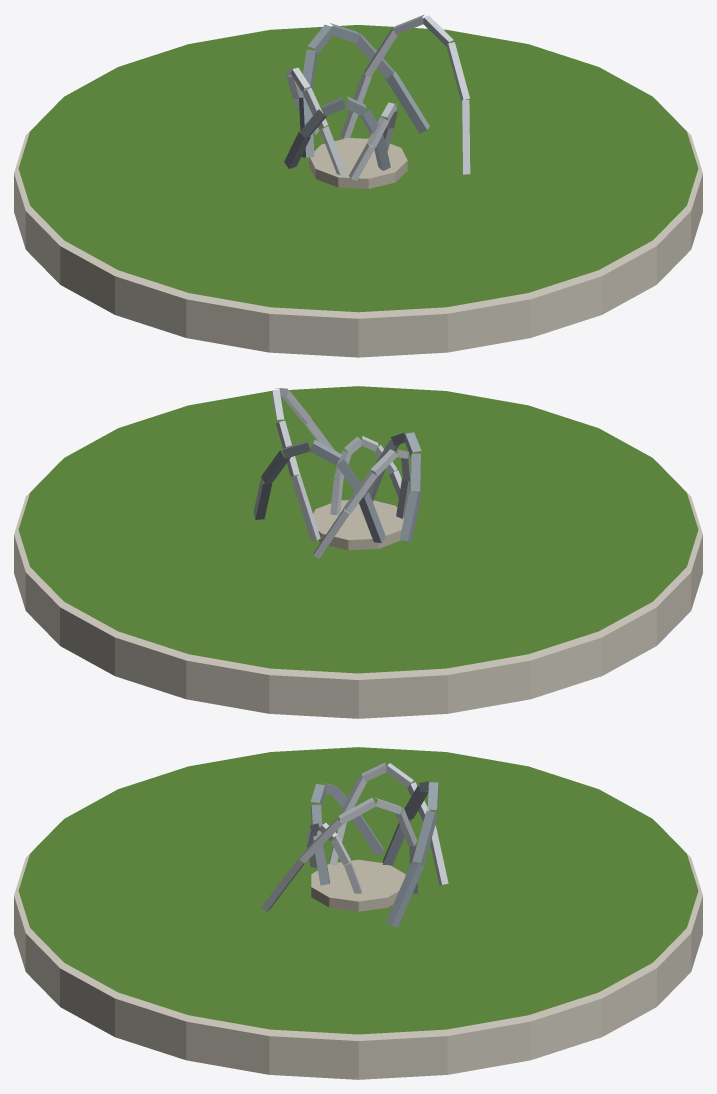
The model's file is rb_waves.glb.
The picture shows the model from 3 angles, top to bottom: view 1: azimuth 30°, elevation 25°; view 2: azimuth 150°, elevation 25°; view 3: azimuth 270°, elevation 25°; orthographic projection.
Parts seen in each view (by area): view 1: rb_waves_lod0; view 2: rb_waves_lod0; view 3: rb_waves_lod0.
Boxes of the visible parts, x1=… form: rb_waves_lod0: x1=14, y1=14, x2=702, y2=357; rb_waves_lod0: x1=14, y1=386, x2=702, y2=718; rb_waves_lod0: x1=14, y1=747, x2=702, y2=1079.
Size of what is drawn, in the model's own units: 30.6 by 8.43 by 30.6.
